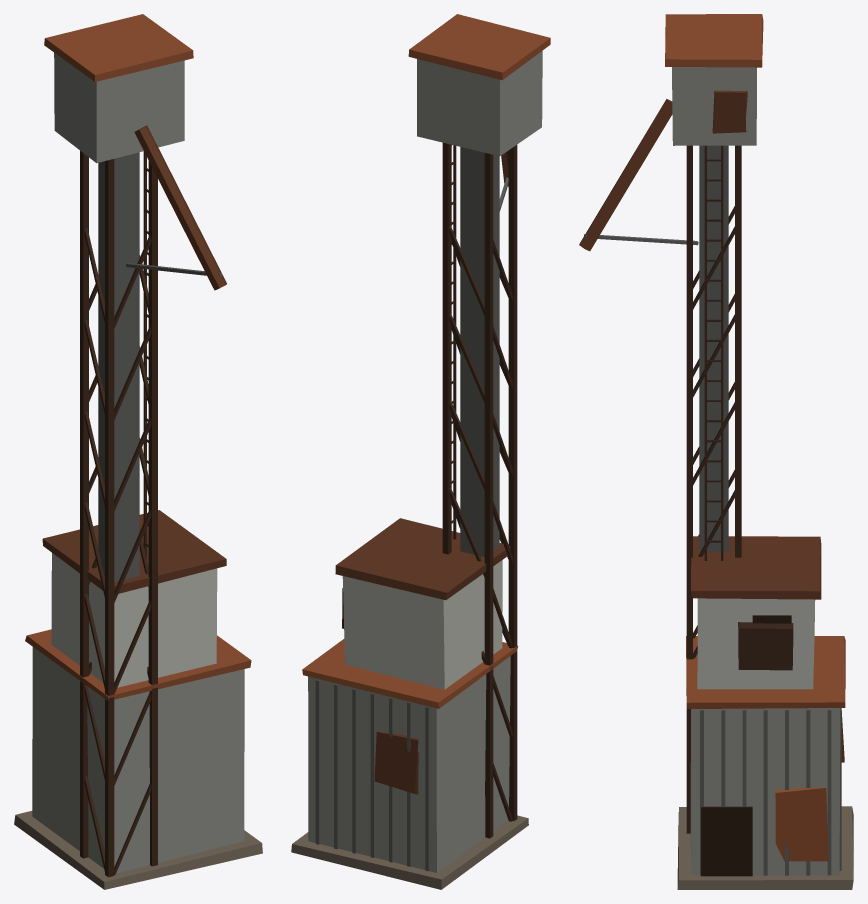
Rendered from grain_elevator.glb.
3 views of the same model, side by side, from view 1: azimuth 30°, elevation 25°; view 2: azimuth 150°, elevation 25°; view 3: azimuth 270°, elevation 25° (orthographic). The views are drawn at different scales.
Parts seen in each view (by area): view 1: grain_elevator; view 2: grain_elevator; view 3: grain_elevator.
Part boxes in pixels (x1,y1,x2,y2): grain_elevator: [14, 14, 262, 889]; grain_elevator: [291, 14, 550, 889]; grain_elevator: [579, 14, 853, 889].
Bounding box in the file's own units: 6.01 × 27.13 × 8.49.
